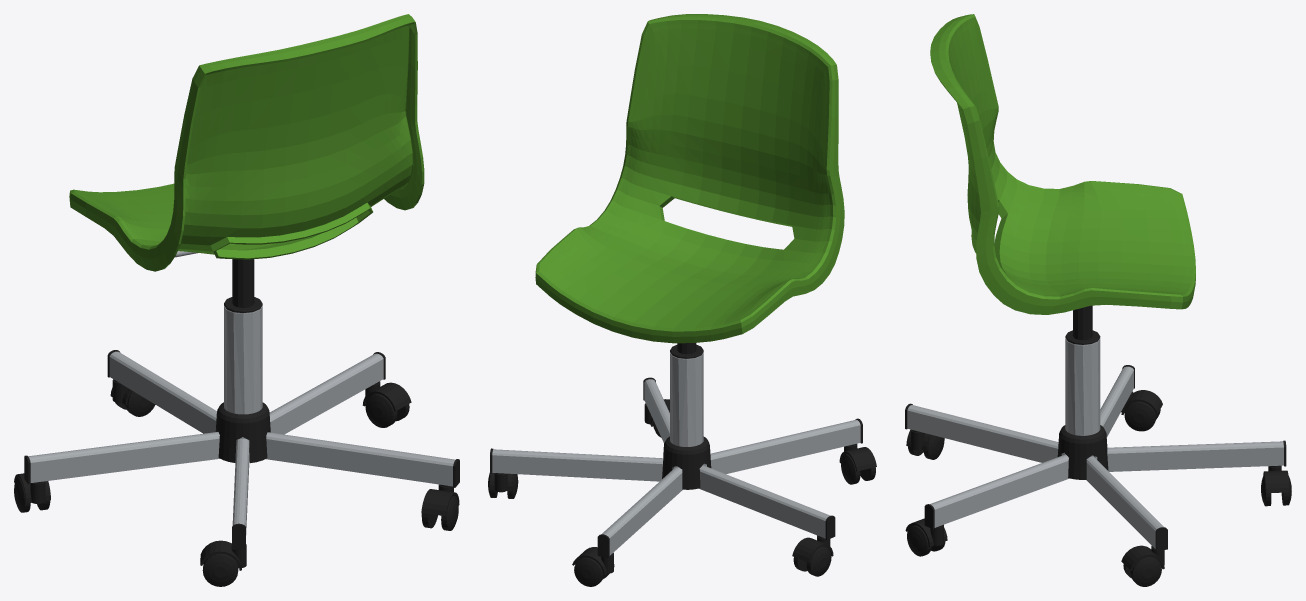
3 views of the same model, side by side, from view 1: azimuth 30°, elevation 25°; view 2: azimuth 150°, elevation 25°; view 3: azimuth 270°, elevation 25° (orthographic). The views are drawn at different scales.
Parts seen in each view (by area): view 1: Mesh2 Group2 SNILLE_IKEA1 Model, Mesh8 Group6 SNILLE_IKEA1 Model, Mesh7 Group5 SNILLE_IKEA1 Model, Mesh1 Group1 SNILLE_IKEA1 Model, Mesh3 Group3 SNILLE_IKEA1 Model, Mesh20 ROULETTE4 SNILLE_IKEA1 Model, Mesh16 ROULETTE3 SNILLE_IKEA1 Model, Mesh12 ROULETTE2 SNILLE_IKEA1 Model, Mesh15 ROULETTE3 SNILLE_IKEA1 Model, Mesh18 ROULETTE4 SNILLE_IKEA1 Model, Mesh9 ROULETTE1 SNILLE_IKEA1 Model; view 2: Mesh2 Group2 SNILLE_IKEA1 Model, Mesh8 Group6 SNILLE_IKEA1 Model, Mesh7 Group5 SNILLE_IKEA1 Model, Mesh1 Group1 SNILLE_IKEA1 Model, Mesh23 ROULETTE5 SNILLE_IKEA1 Model, Mesh18 ROULETTE4 SNILLE_IKEA1 Model, Mesh9 ROULETTE1 SNILLE_IKEA1 Model, Mesh11 ROULETTE1 SNILLE_IKEA1 Model; view 3: Mesh2 Group2 SNILLE_IKEA1 Model, Mesh8 Group6 SNILLE_IKEA1 Model, Mesh7 Group5 SNILLE_IKEA1 Model, Mesh1 Group1 SNILLE_IKEA1 Model, Mesh3 Group3 SNILLE_IKEA1 Model, Mesh10 ROULETTE1 SNILLE_IKEA1 Model, Mesh17 ROULETTE3 SNILLE_IKEA1 Model, Mesh21 ROULETTE5 SNILLE_IKEA1 Model, Mesh15 ROULETTE3 SNILLE_IKEA1 Model, Mesh14 ROULETTE2 SNILLE_IKEA1 Model, Mesh12 ROULETTE2 SNILLE_IKEA1 Model, Mesh9 ROULETTE1 SNILLE_IKEA1 Model.
Part boxes in pixels (x1=…): Mesh2 Group2 SNILLE_IKEA1 Model: x1=69, y1=14, x2=424, y2=271; Mesh8 Group6 SNILLE_IKEA1 Model: x1=24, y1=350, x2=459, y2=549; Mesh7 Group5 SNILLE_IKEA1 Model: x1=224, y1=305, x2=262, y2=414; Mesh1 Group1 SNILLE_IKEA1 Model: x1=215, y1=402, x2=270, y2=463; Mesh3 Group3 SNILLE_IKEA1 Model: x1=224, y1=259, x2=262, y2=313; Mesh20 ROULETTE4 SNILLE_IKEA1 Model: x1=202, y1=553, x2=238, y2=586; Mesh16 ROULETTE3 SNILLE_IKEA1 Model: x1=365, y1=393, x2=397, y2=427; Mesh12 ROULETTE2 SNILLE_IKEA1 Model: x1=421, y1=484, x2=459, y2=516; Mesh15 ROULETTE3 SNILLE_IKEA1 Model: x1=362, y1=381, x2=411, y2=411; Mesh18 ROULETTE4 SNILLE_IKEA1 Model: x1=200, y1=540, x2=246, y2=570; Mesh9 ROULETTE1 SNILLE_IKEA1 Model: x1=14, y1=473, x2=50, y2=503; Mesh2 Group2 SNILLE_IKEA1 Model: x1=535, y1=14, x2=844, y2=343; Mesh8 Group6 SNILLE_IKEA1 Model: x1=490, y1=377, x2=862, y2=557; Mesh7 Group5 SNILLE_IKEA1 Model: x1=670, y1=352, x2=703, y2=446; Mesh1 Group1 SNILLE_IKEA1 Model: x1=662, y1=436, x2=711, y2=489; Mesh23 ROULETTE5 SNILLE_IKEA1 Model: x1=574, y1=557, x2=603, y2=586; Mesh18 ROULETTE4 SNILLE_IKEA1 Model: x1=839, y1=443, x2=876, y2=471; Mesh9 ROULETTE1 SNILLE_IKEA1 Model: x1=792, y1=535, x2=833, y2=562; Mesh11 ROULETTE1 SNILLE_IKEA1 Model: x1=806, y1=546, x2=831, y2=576; Mesh2 Group2 SNILLE_IKEA1 Model: x1=930, y1=14, x2=1195, y2=314; Mesh8 Group6 SNILLE_IKEA1 Model: x1=905, y1=365, x2=1286, y2=551; Mesh7 Group5 SNILLE_IKEA1 Model: x1=1065, y1=338, x2=1100, y2=435; Mesh1 Group1 SNILLE_IKEA1 Model: x1=1057, y1=425, x2=1108, y2=479; Mesh3 Group3 SNILLE_IKEA1 Model: x1=1065, y1=305, x2=1100, y2=344; Mesh10 ROULETTE1 SNILLE_IKEA1 Model: x1=1124, y1=401, x2=1156, y2=431; Mesh17 ROULETTE3 SNILLE_IKEA1 Model: x1=1130, y1=556, x2=1161, y2=586; Mesh21 ROULETTE5 SNILLE_IKEA1 Model: x1=1263, y1=465, x2=1289, y2=493; Mesh15 ROULETTE3 SNILLE_IKEA1 Model: x1=1121, y1=545, x2=1164, y2=570; Mesh14 ROULETTE2 SNILLE_IKEA1 Model: x1=907, y1=525, x2=931, y2=556; Mesh12 ROULETTE2 SNILLE_IKEA1 Model: x1=905, y1=518, x2=947, y2=546; Mesh9 ROULETTE1 SNILLE_IKEA1 Model: x1=1121, y1=390, x2=1162, y2=414.
Size of the model in its own units: 0.5974 by 0.7451 by 0.5745.
